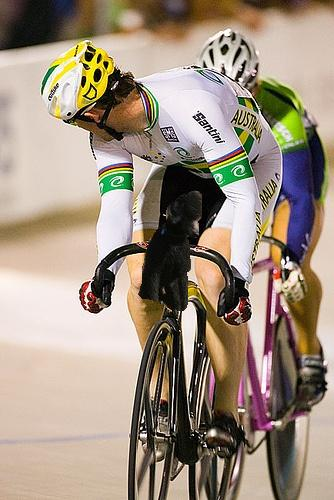tampered: (139, 191, 202, 312)
